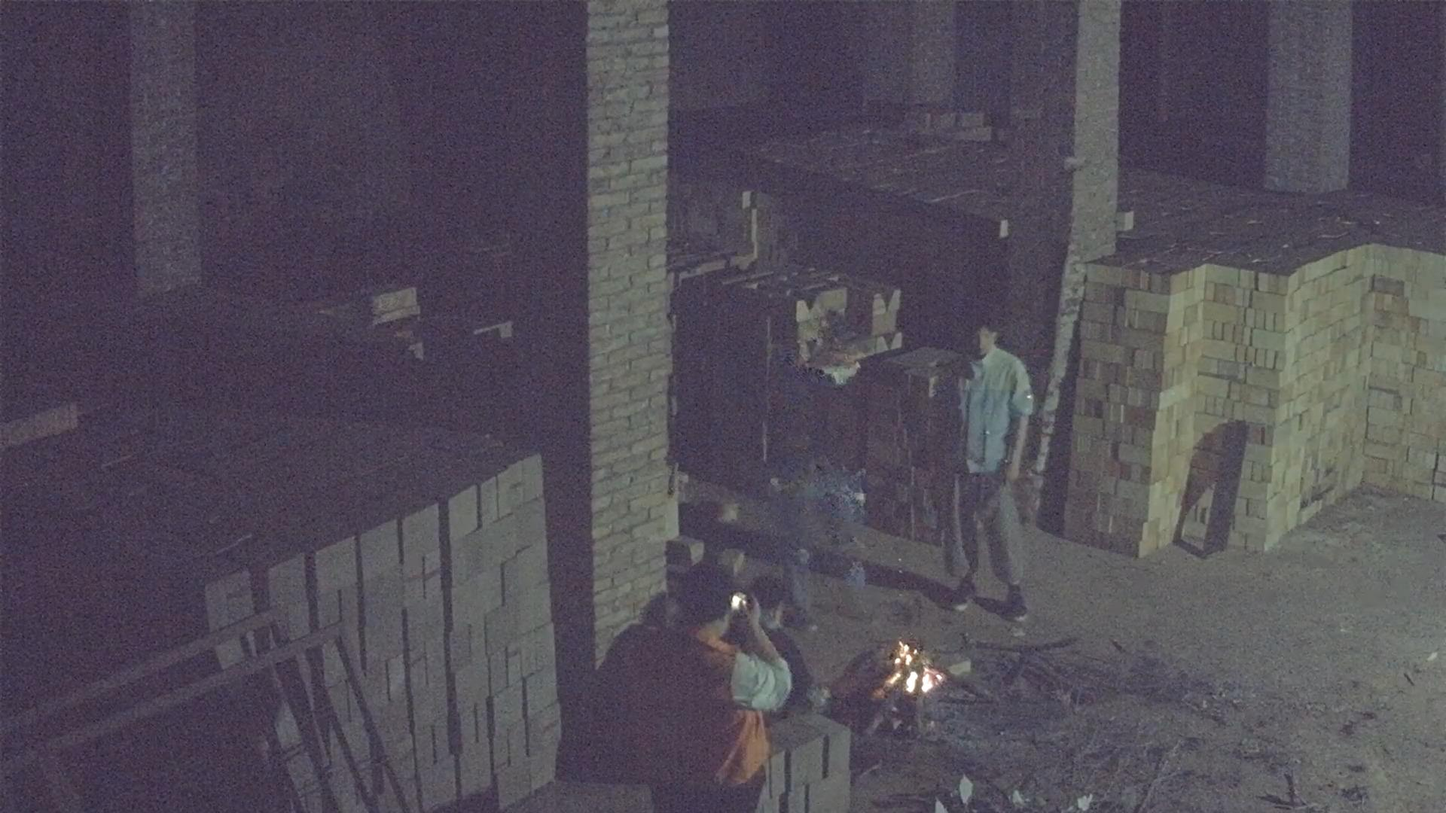fire: (882, 640, 944, 697)
